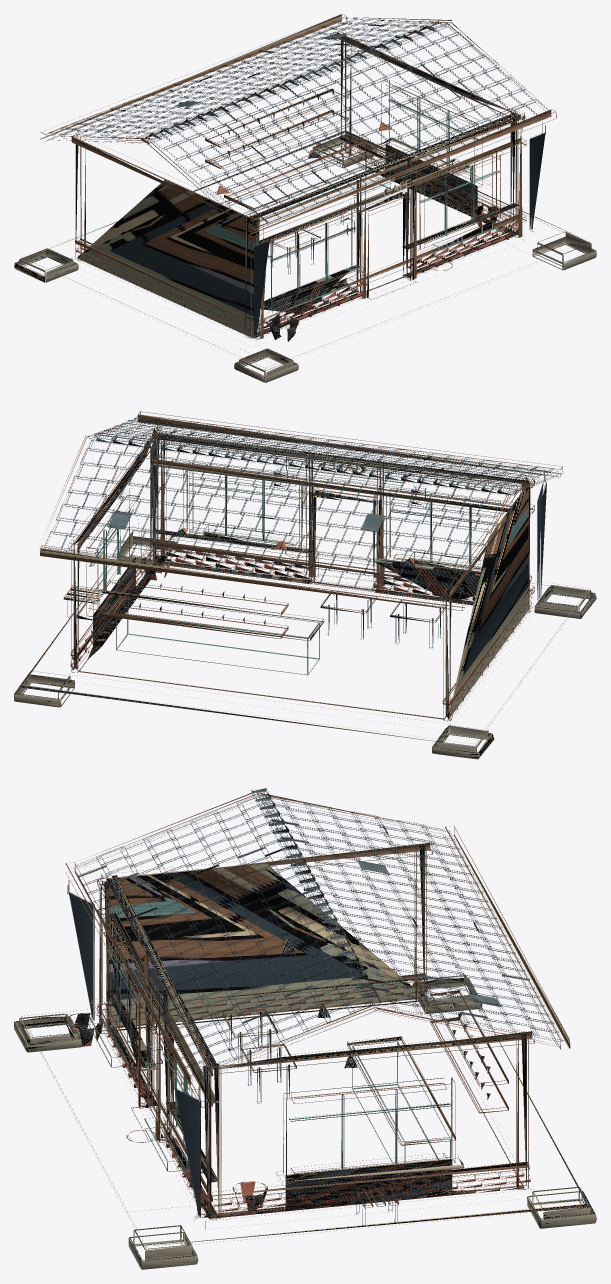
Rendered from cafe.glb.
The picture shows the model from 3 angles, top to bottom: view 1: azimuth 30°, elevation 25°; view 2: azimuth 150°, elevation 25°; view 3: azimuth 270°, elevation 25°; orthographic projection. The views are drawn at different scales.
Parts seen in each view (by area): view 1: Cafe; view 2: Cafe; view 3: Cafe.
Part boxes in pixels (x1,y1,x2,y2): Cafe: [14, 14, 596, 382]; Cafe: [14, 411, 596, 759]; Cafe: [14, 788, 596, 1269].
Bounding box in the file's own units: 12.95 × 5 × 11.4.
Materials: 1 (1 with a texture image).
